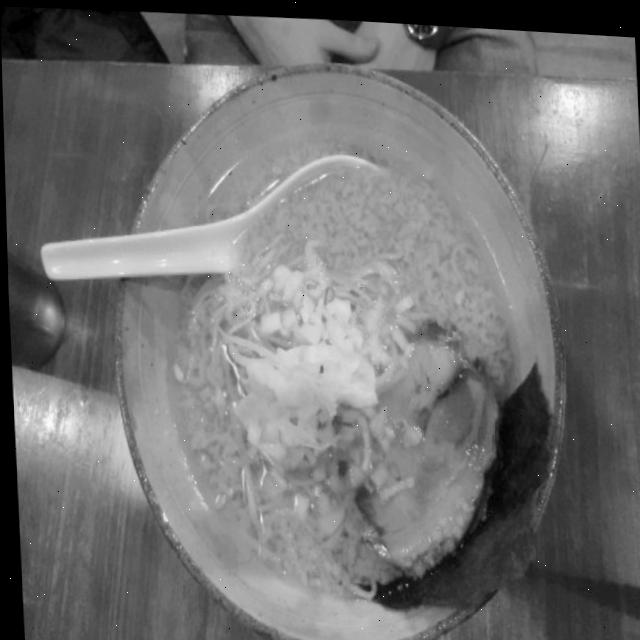面条主食: (25, 20, 583, 640)
